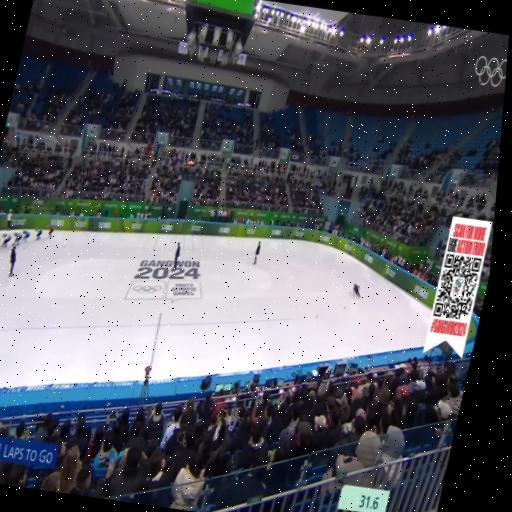Skater: (0, 232, 13, 251), (350, 282, 365, 298), (44, 223, 57, 240), (11, 232, 24, 248), (32, 226, 45, 242), (20, 229, 32, 245), (0, 235, 2, 253)
